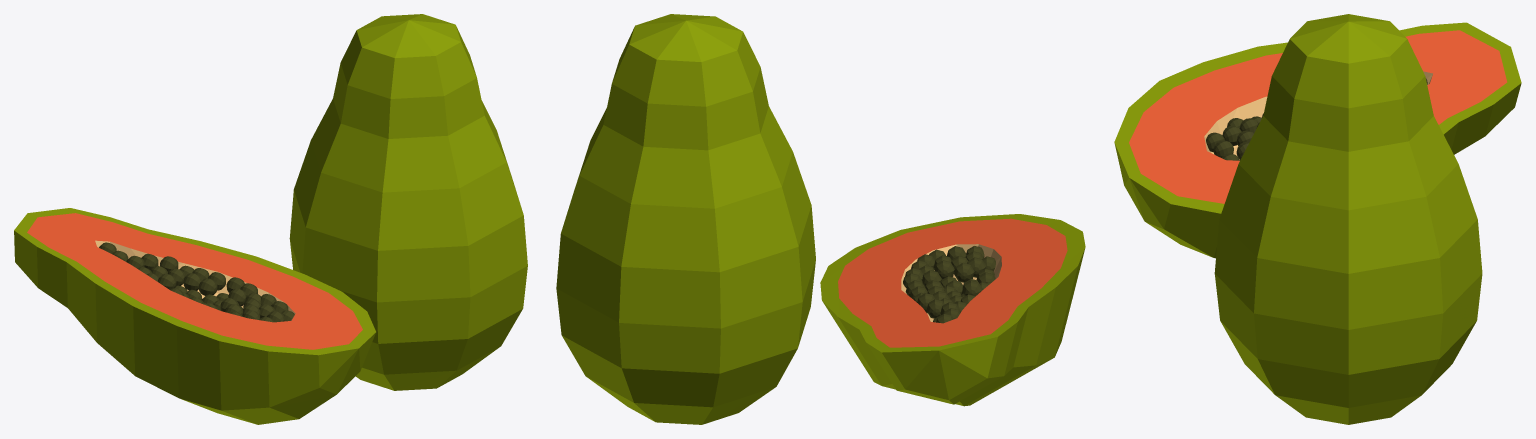
Rendered from papaya.glb.
3 views of the same model, side by side, from view 1: azimuth 30°, elevation 25°; view 2: azimuth 150°, elevation 25°; view 3: azimuth 270°, elevation 25° (orthographic). The views are drawn at different scales.
Visible parts, largest first — view 1: Node; view 2: Node; view 3: Node.
Part boxes in pixels (bbox=[...]): Node: bbox=[14, 14, 527, 424]; Node: bbox=[556, 14, 1085, 424]; Node: bbox=[1114, 14, 1521, 424].
Bounding box in the file's own units: 3.44 × 2.65 × 2.5.
